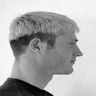ear: (27, 32, 48, 59)
